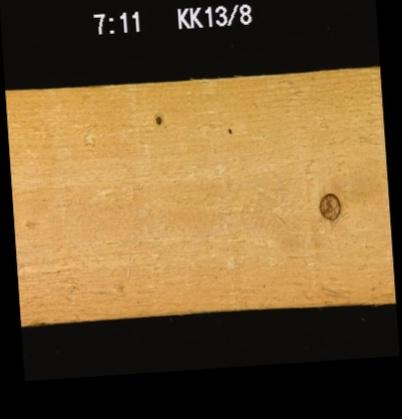dry_knot: (315, 190, 341, 221)
small_knot: (151, 111, 162, 127)
